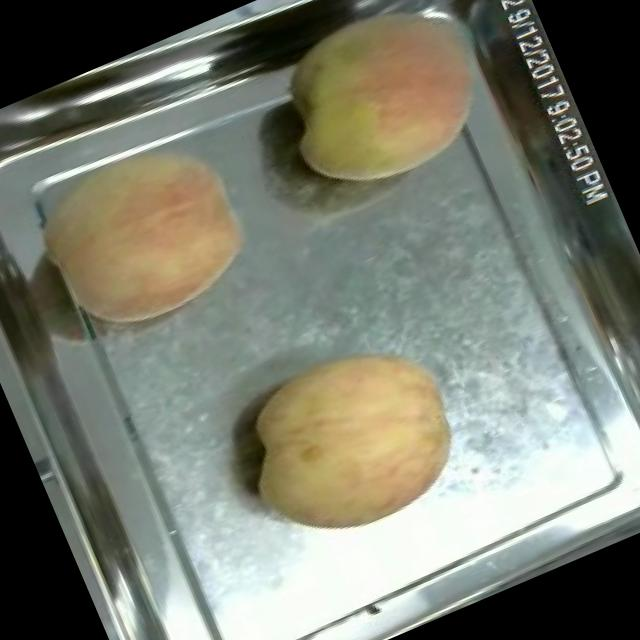Fruit: (7, 102, 279, 358), (216, 312, 488, 568), (249, 0, 516, 218)
